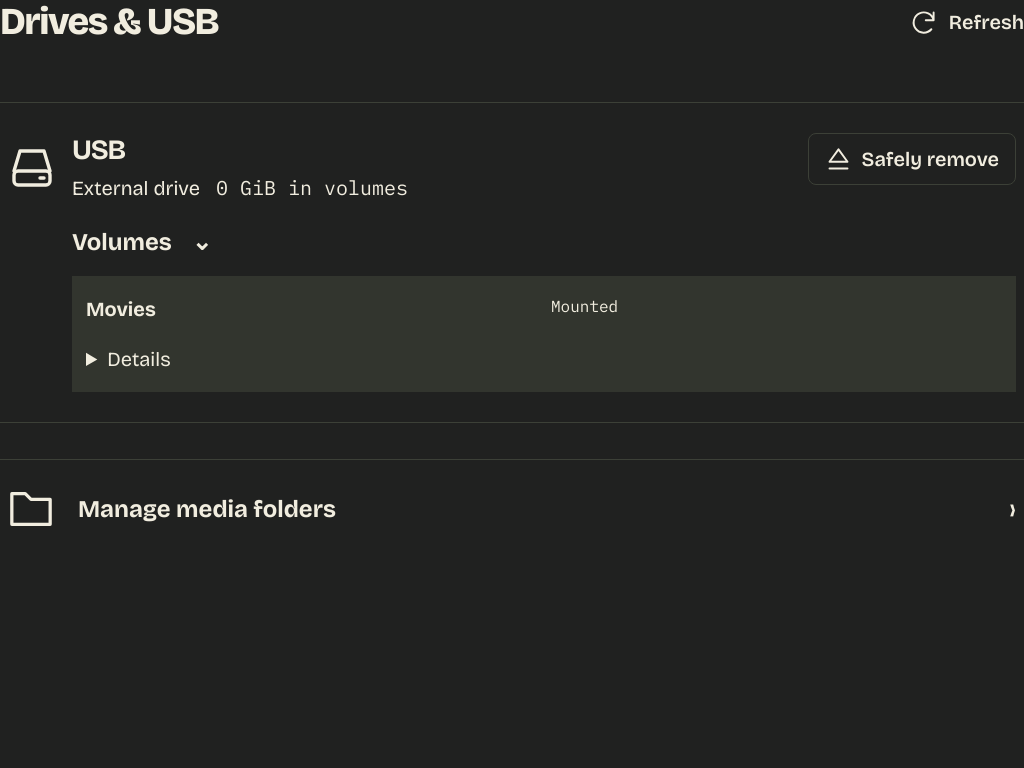
Scenario: shows shared physical drives before confirmation and never shows safe removal on busy failure
Click the button "Safely remove": x=912, y=159 [808, 133, 1016, 185]
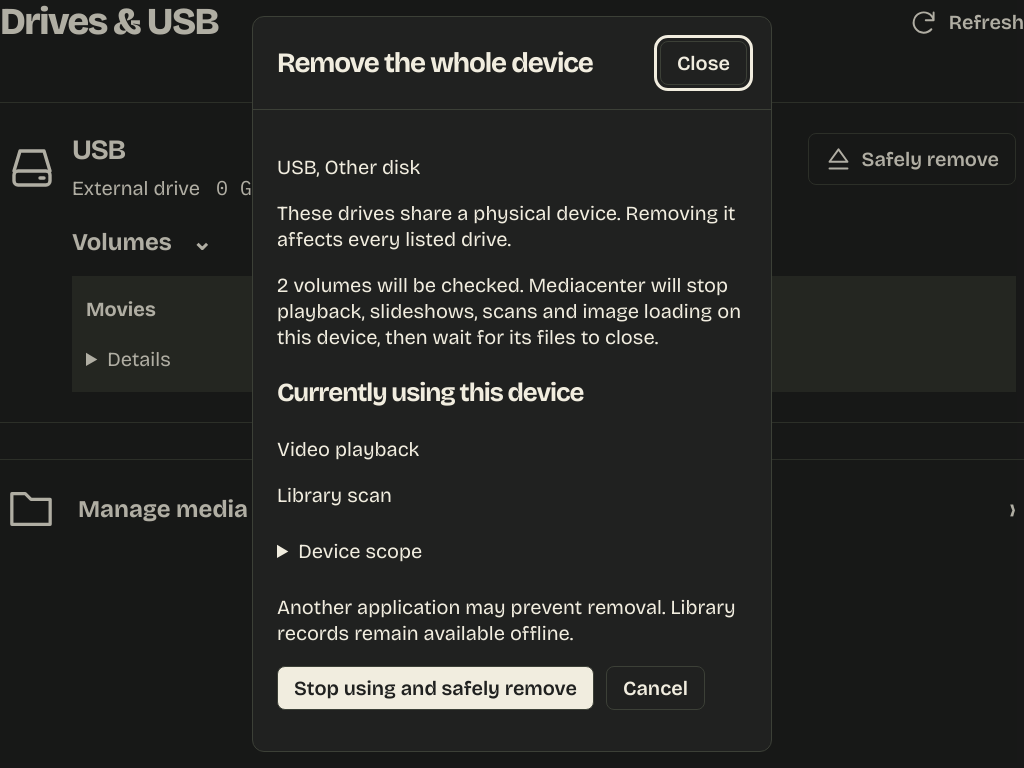
Expected: the text "USB, Other disk" is shown, [277, 155, 420, 179]
Expected: the text "Video playback" is shown, [277, 437, 419, 461]
Expected: the text "Library scan" is shown, [277, 483, 392, 507]
Click the button "Stop using and safely remove": x=435, y=688 [277, 666, 594, 710]
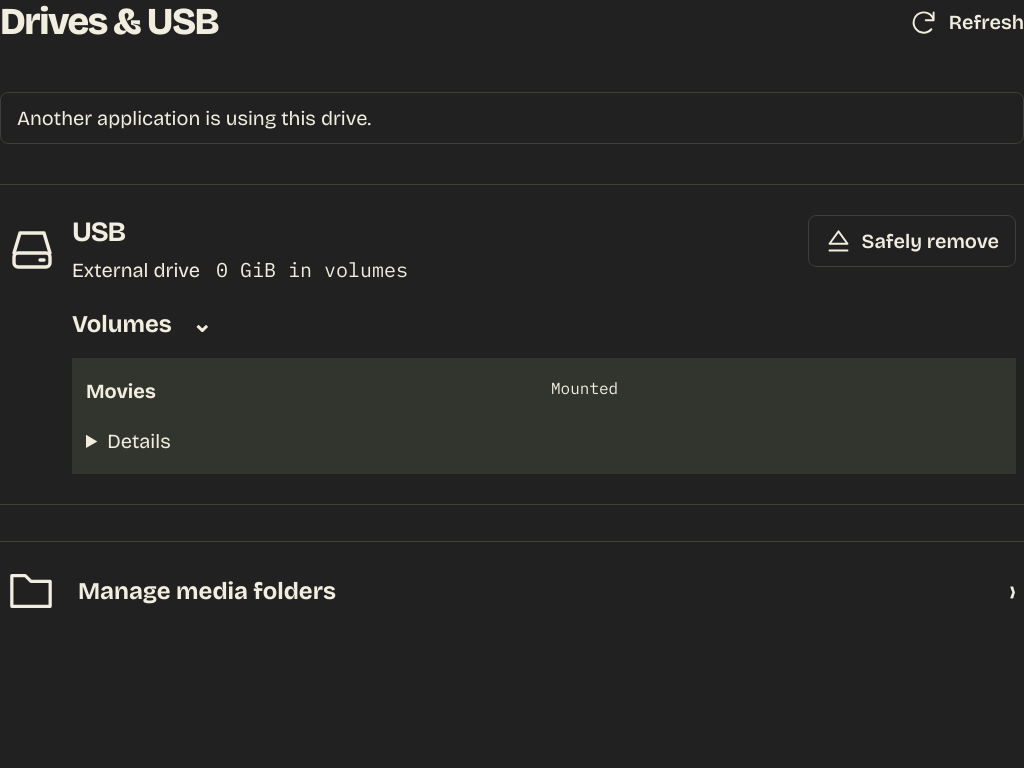
Expected: the message shows "Another application", [17, 106, 371, 130]
